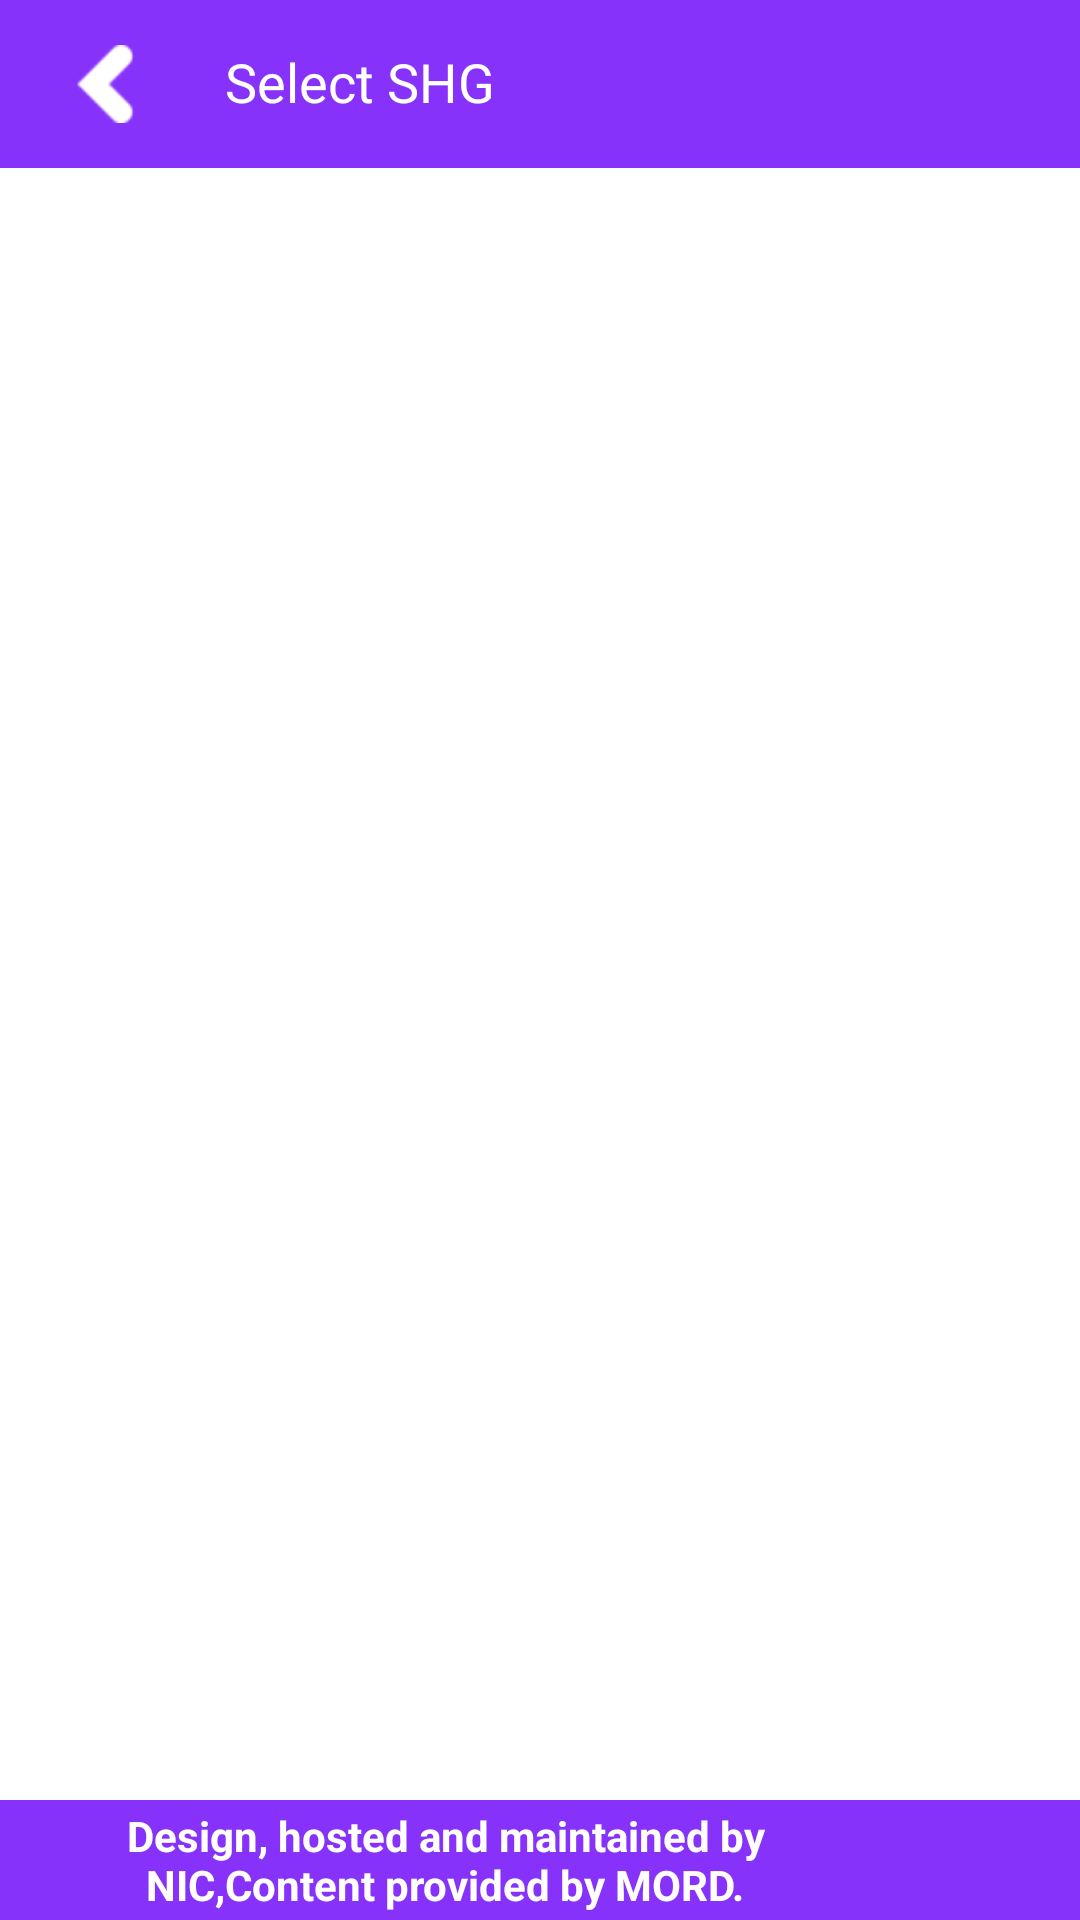

Named icons in this screenshot (1080×1920) and their centers, [x,y]:
arrow left: [105,84]
